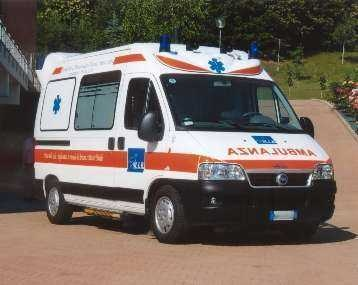Ambulance: (28, 43, 345, 250)
